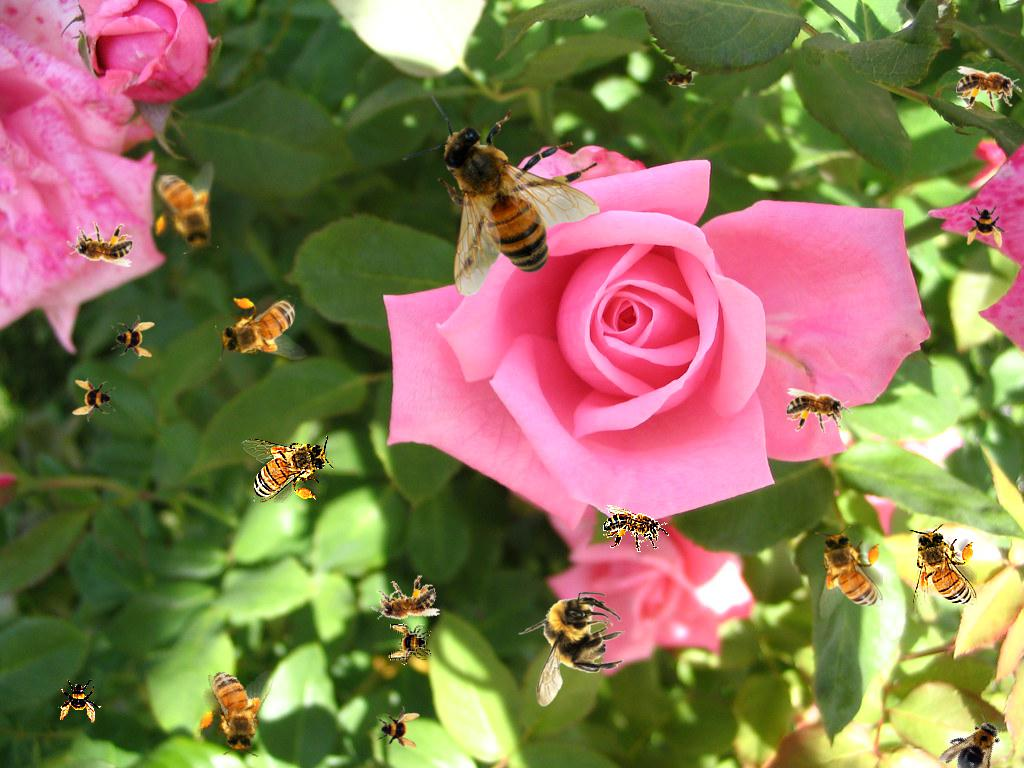Bee: (401, 93, 600, 297), (518, 592, 625, 707), (190, 656, 280, 763), (213, 292, 309, 365), (241, 435, 334, 503), (909, 524, 977, 617), (815, 526, 883, 619), (151, 161, 219, 254), (935, 705, 1017, 768), (366, 570, 442, 633), (601, 504, 671, 555), (956, 66, 1022, 111), (786, 388, 852, 433), (67, 222, 133, 267), (376, 706, 420, 750), (72, 378, 116, 422), (388, 622, 432, 666), (58, 679, 102, 723), (965, 204, 1009, 248), (111, 315, 155, 359), (659, 67, 699, 89)
